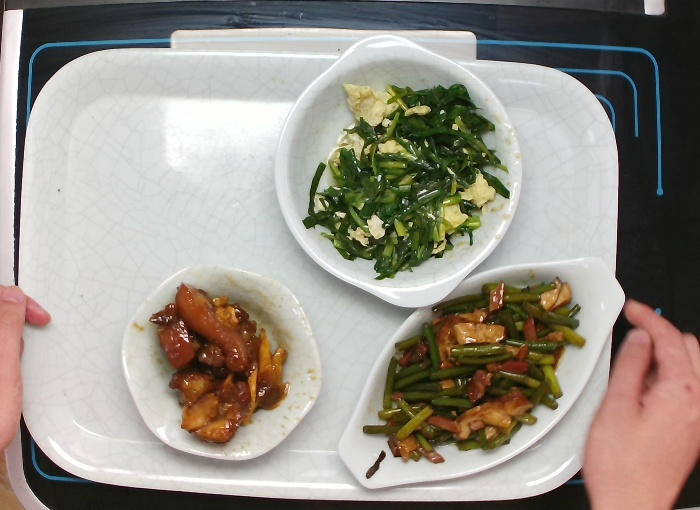JYsf-Shuang_Er_Wan: (272, 30, 528, 312)
JYsf-Yu_Pan: (335, 253, 633, 495)
WCQzf-Hua_Duo_Wan: (107, 251, 323, 468)
